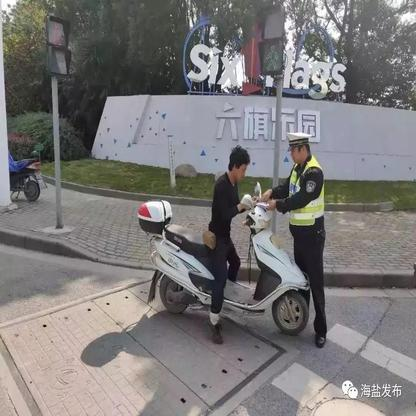target: (132, 146, 309, 343)
